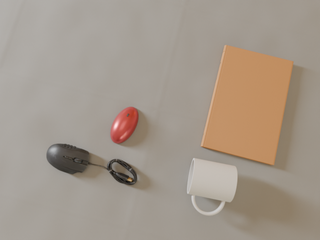book: (201, 45, 293, 165)
cup: (187, 158, 237, 215)
mouse: (47, 144, 92, 174), (110, 107, 138, 143)
